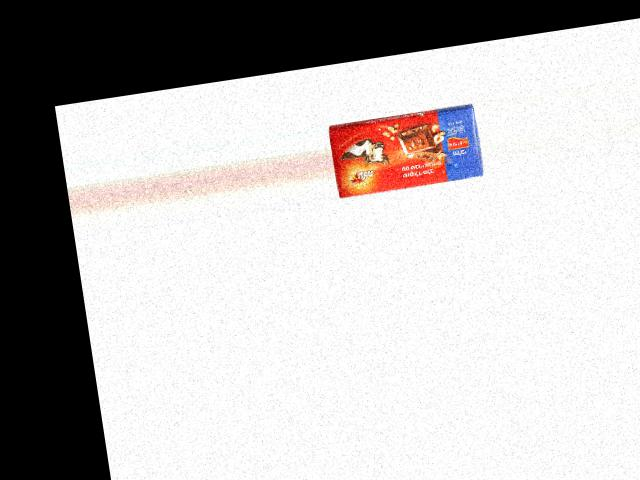chocolate: (327, 97, 482, 197)
